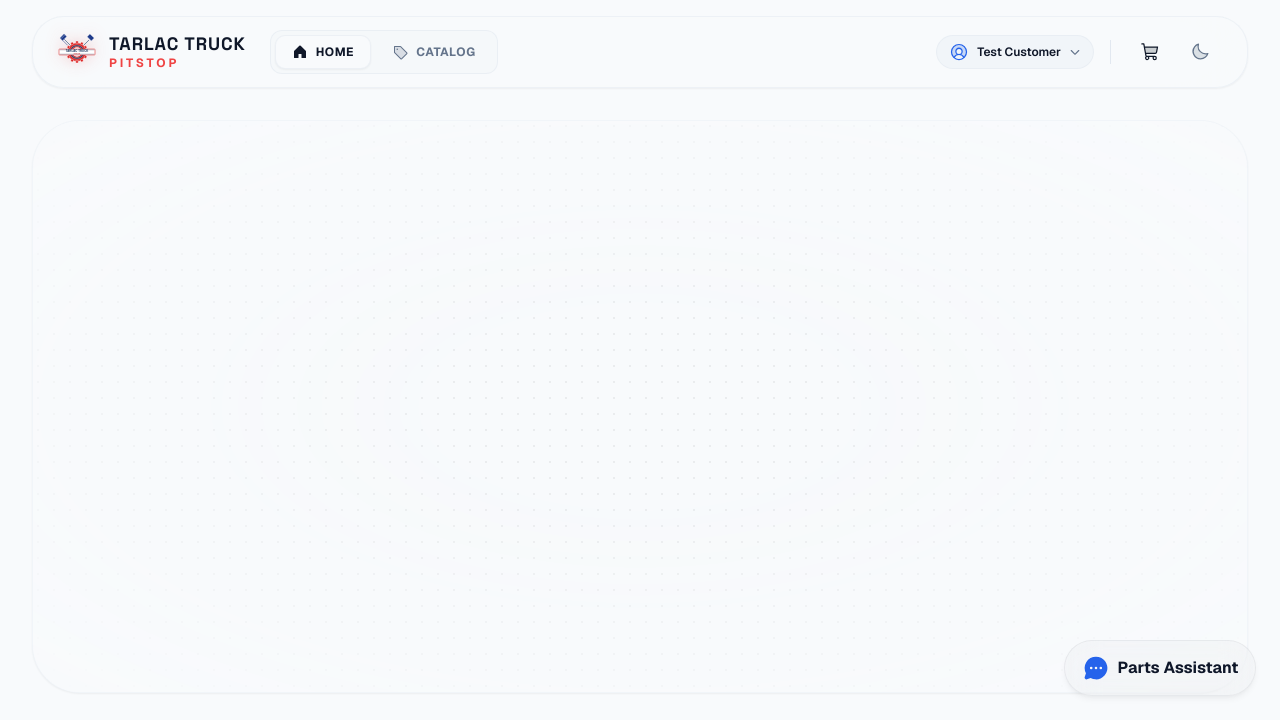
CustomerStorefront Component Tests › closes the account menu on outside click
This screenshot has width=1280, height=720.
Click the button with aria-label "account menu" at (1015, 52), box x1=936 y1=35 x2=1094 y2=69
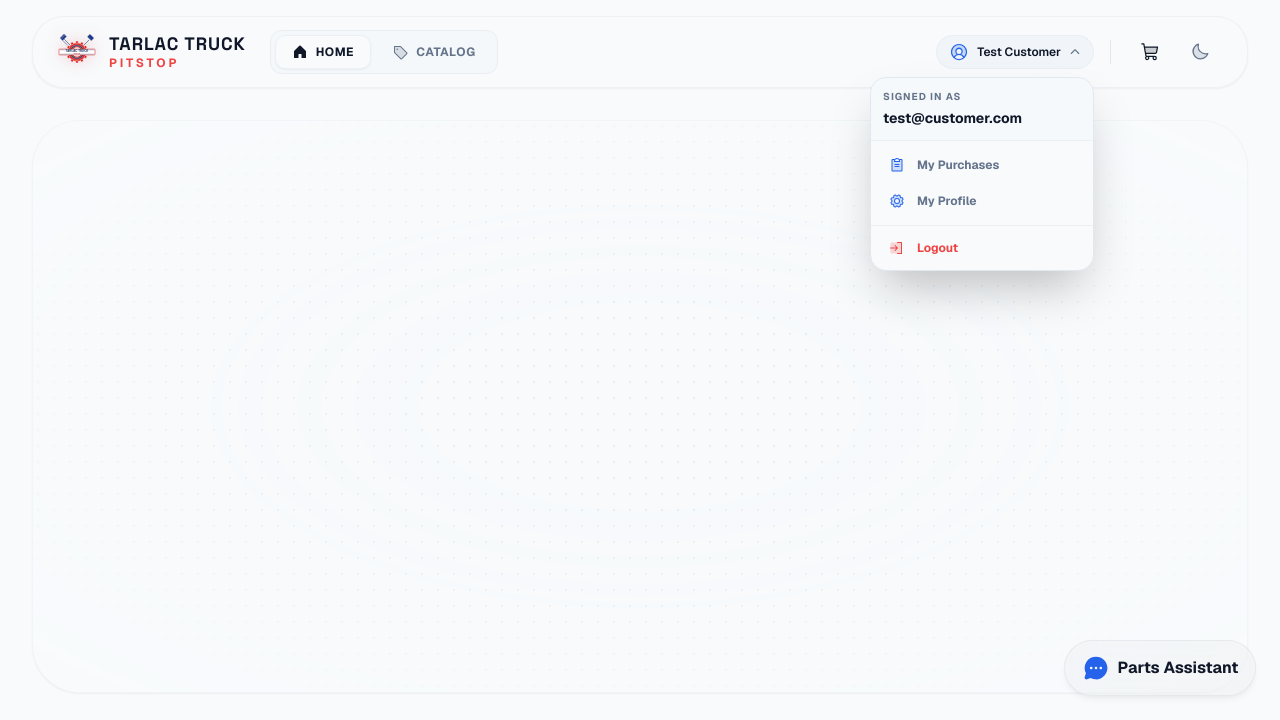
expect the button with aria-label "account menu" is expanded: met, box x1=936 y1=35 x2=1094 y2=69
Press the mouse on the element that starts with "TARLAC TRUCK" at (640, 360), box x1=0 y1=0 x2=1279 y2=719
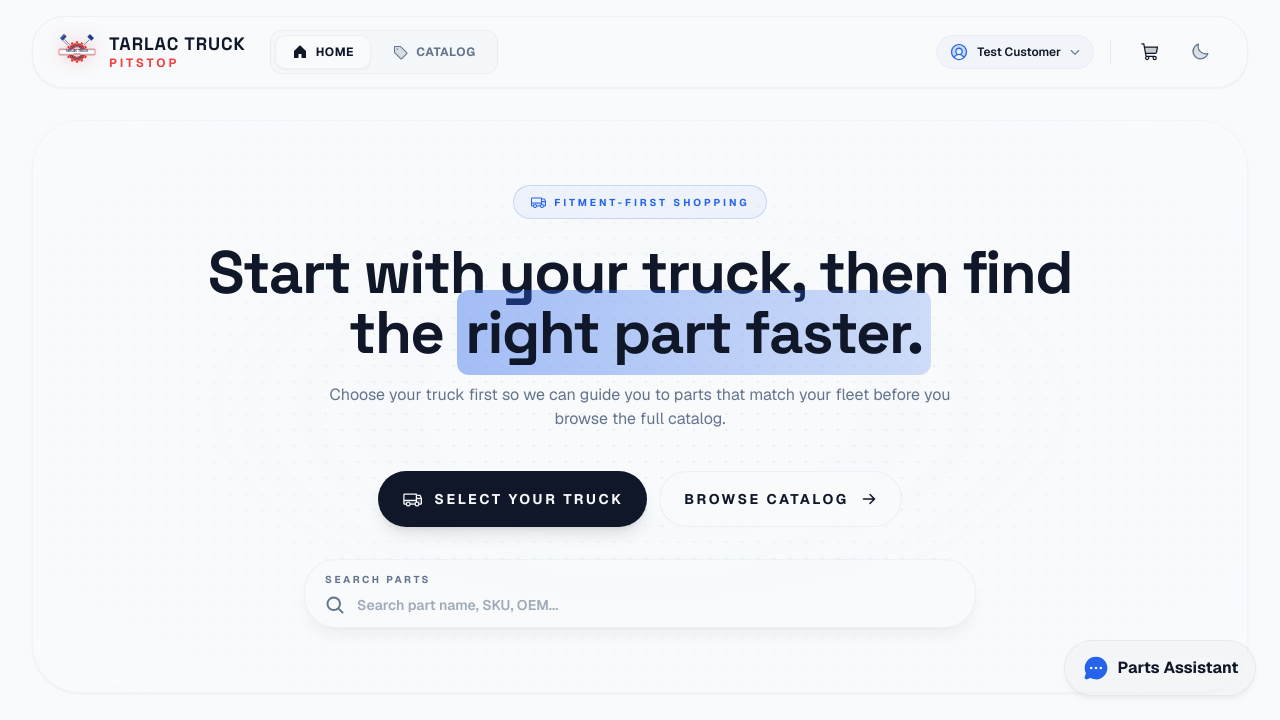
expect the button with aria-label "account menu" is collapsed: met, box x1=936 y1=35 x2=1094 y2=69
